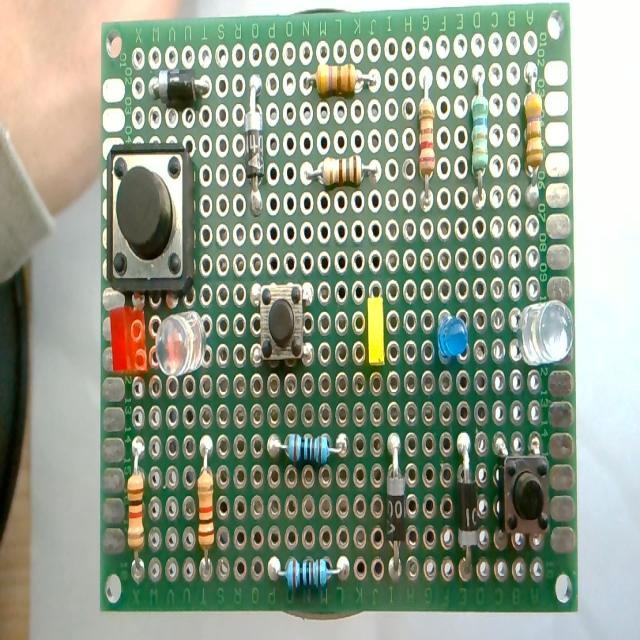diode: (244, 76, 265, 218), (386, 432, 407, 570), (457, 432, 479, 558), (150, 67, 209, 108)
led: (105, 301, 156, 393), (516, 300, 574, 366), (155, 310, 207, 376), (436, 311, 470, 364), (367, 292, 385, 367)
resistor: (260, 543, 354, 597), (305, 148, 384, 207), (264, 423, 350, 469), (297, 64, 377, 108), (469, 64, 493, 205), (196, 438, 216, 576), (126, 437, 146, 575), (524, 64, 544, 198), (419, 74, 435, 209)
switch: (106, 146, 194, 291), (496, 447, 555, 544), (252, 282, 312, 366)
